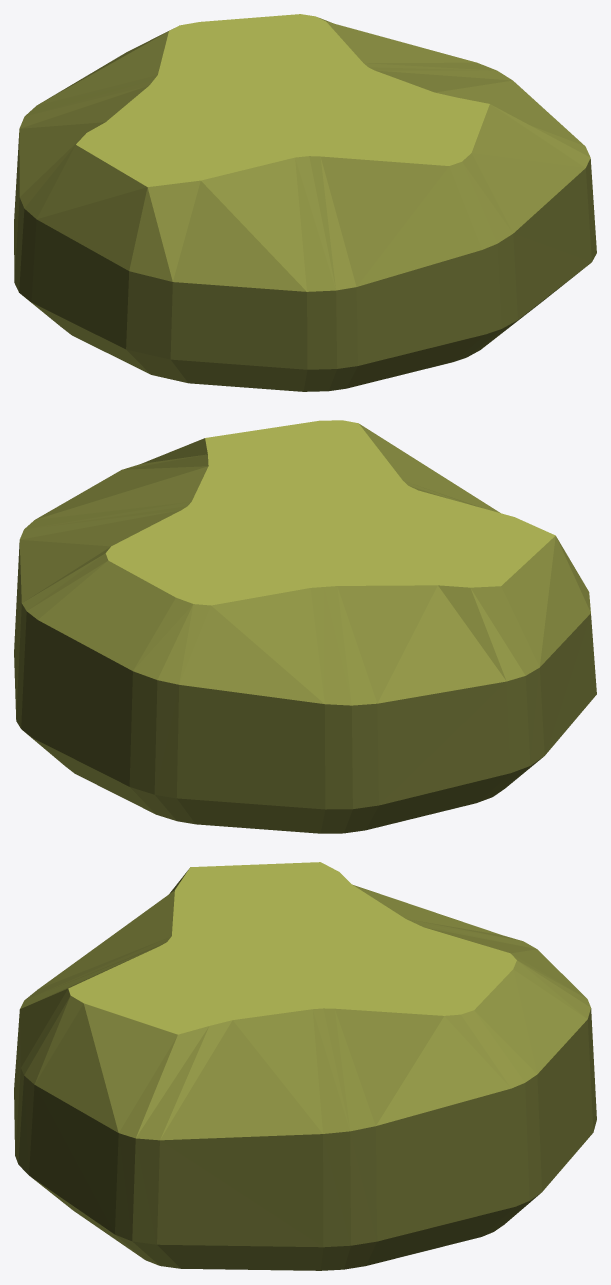
Rendered from gold_deposit_icon.fbx.
3 views of the same model, one above another, from view 1: azimuth 30°, elevation 25°; view 2: azimuth 150°, elevation 25°; view 3: azimuth 270°, elevation 25° (orthographic). The views are drawn at different scales.
Visible parts, largest first — view 1: gold_deposit_icon_body; view 2: gold_deposit_icon_body; view 3: gold_deposit_icon_body.
Boxes of the visible parts, left/top/right/bottom form: gold_deposit_icon_body: left=14, top=14, right=596, bottom=391; gold_deposit_icon_body: left=14, top=420, right=596, bottom=833; gold_deposit_icon_body: left=14, top=862, right=596, bottom=1270.
Bounding box in the file's own units: 4 × 1.54 × 3.94.
1 material, 1 textured.
